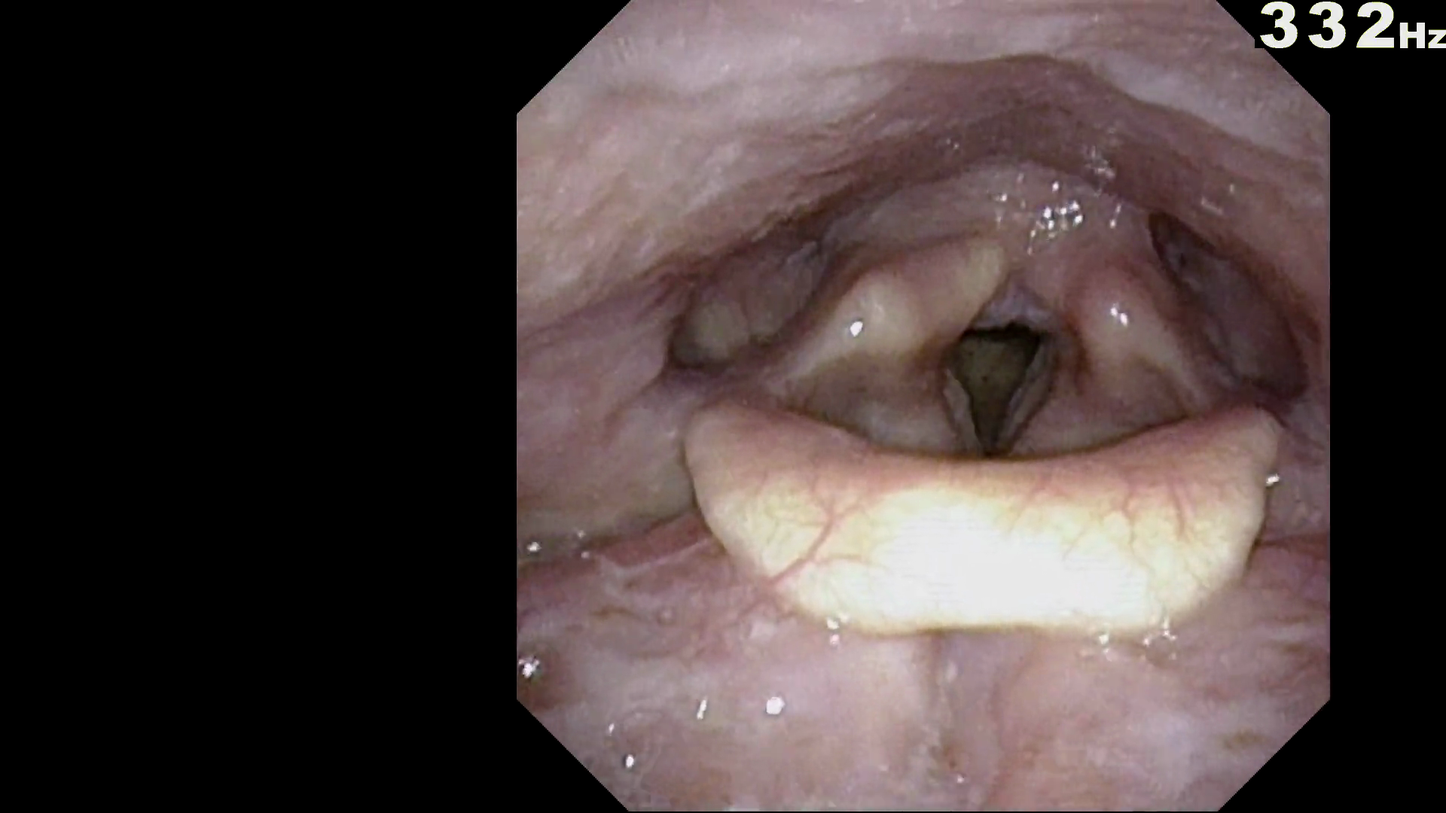epiglottis: (668, 390, 1303, 650)
trachea: (920, 290, 1100, 501)
